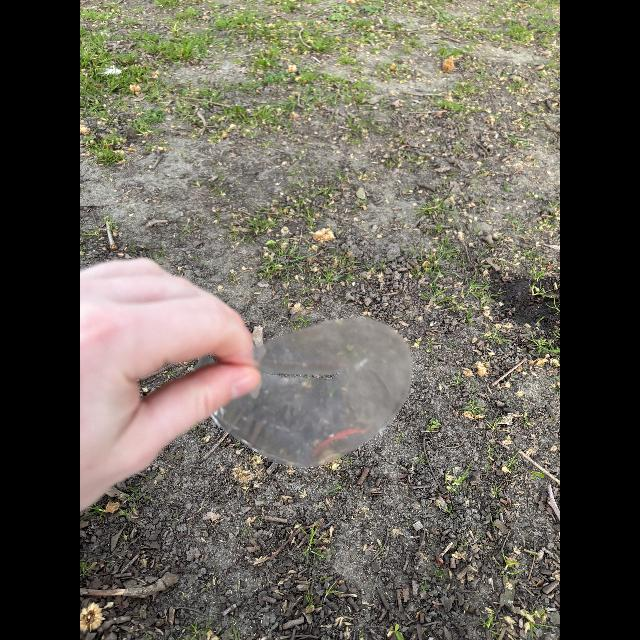Plastic: (196, 315, 414, 471)
